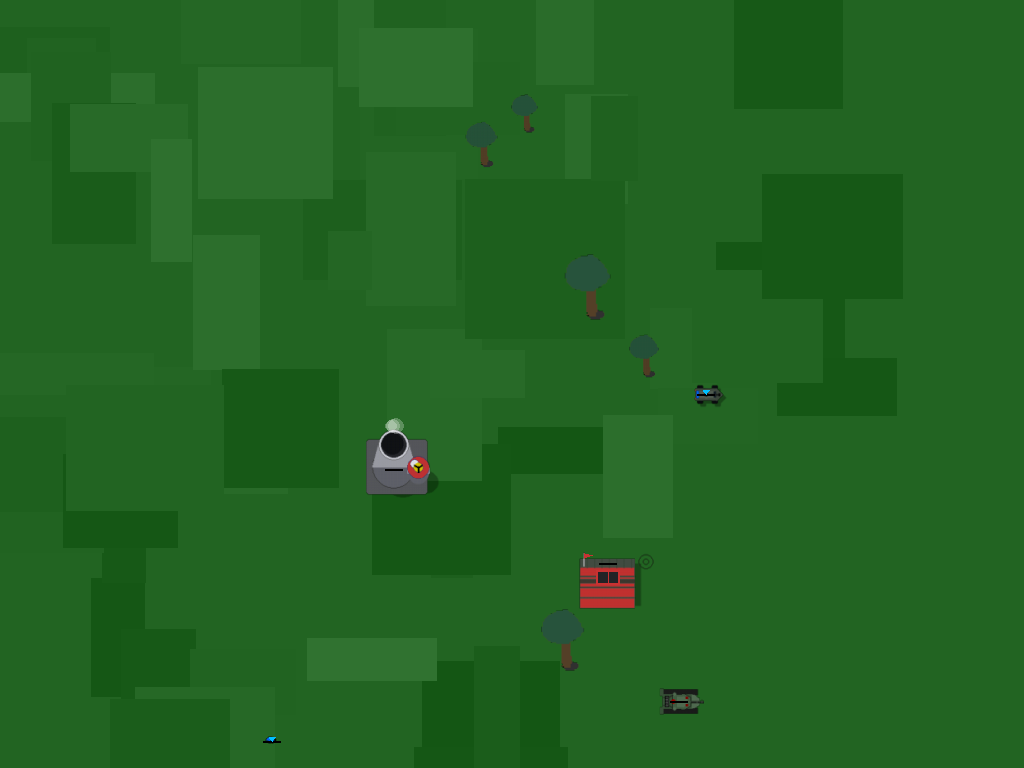ArmoredCar: (691, 378, 721, 408)
Barracks: (571, 525, 644, 598)
M1A2_rus: (655, 677, 701, 723)
PowerPlant: (366, 440, 421, 495)
Sniper: (258, 726, 284, 752)
